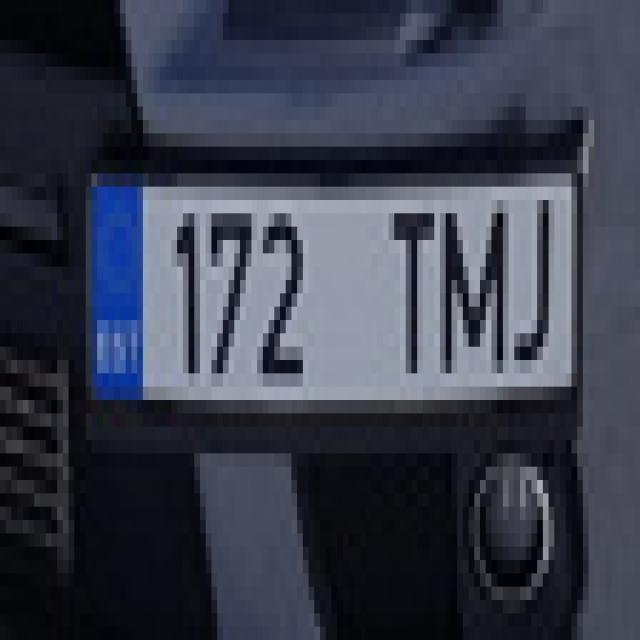1: (172, 196, 203, 386)
7: (205, 192, 258, 398)
J: (509, 180, 560, 365)
M: (436, 186, 509, 384)
T: (388, 193, 438, 389)
